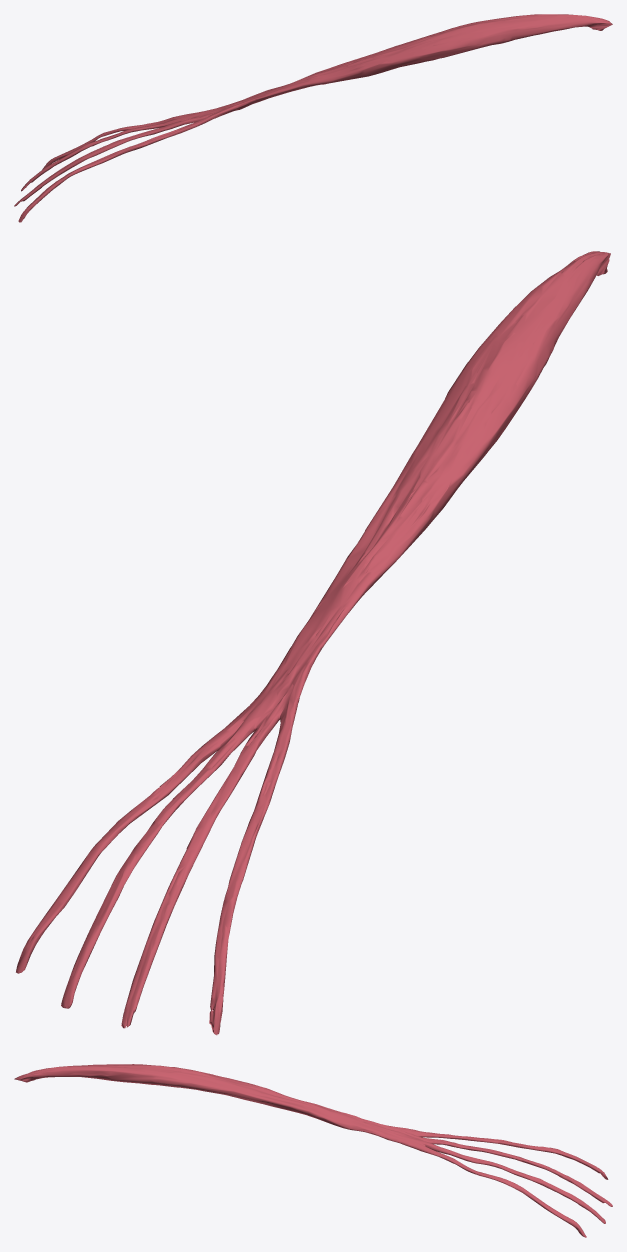
3 renders of one model, top to bottom at view 1: azimuth 90°, elevation 25°; view 2: azimuth 150°, elevation 25°; view 3: azimuth 270°, elevation 25°, orthographic. The views are drawn at different scales.
Visible parts, largest first — view 1: 右侧指伸肌; view 2: 右侧指伸肌; view 3: 右侧指伸肌.
Boxes of the visible parts, <box> form: 右侧指伸肌: <box>14,14,612,222</box>; 右侧指伸肌: <box>16,251,610,1035</box>; 右侧指伸肌: <box>14,1064,612,1237</box>.
Size of the model in its own units: 0.1256 by 0.1782 by 0.5814.
